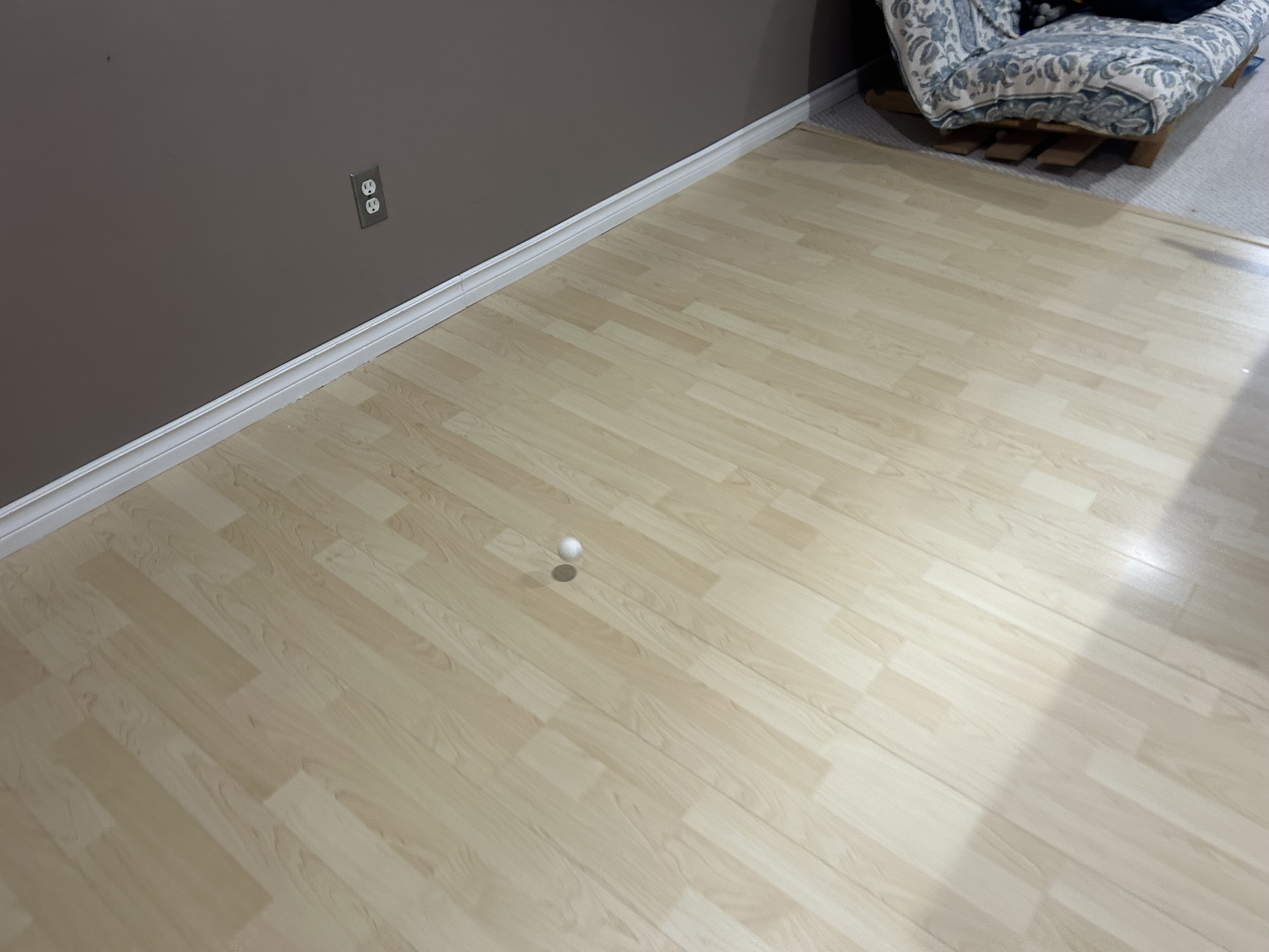Ball: (556, 532, 590, 568)
